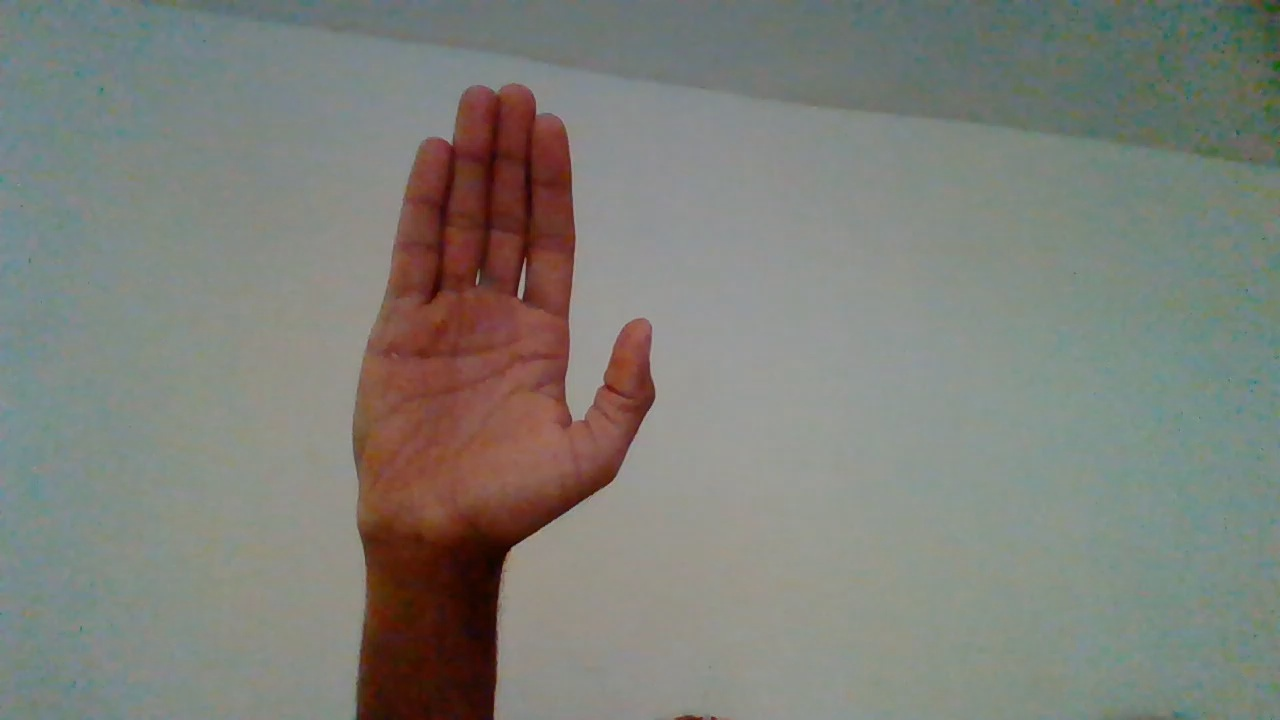ha: (352, 83, 661, 605)
